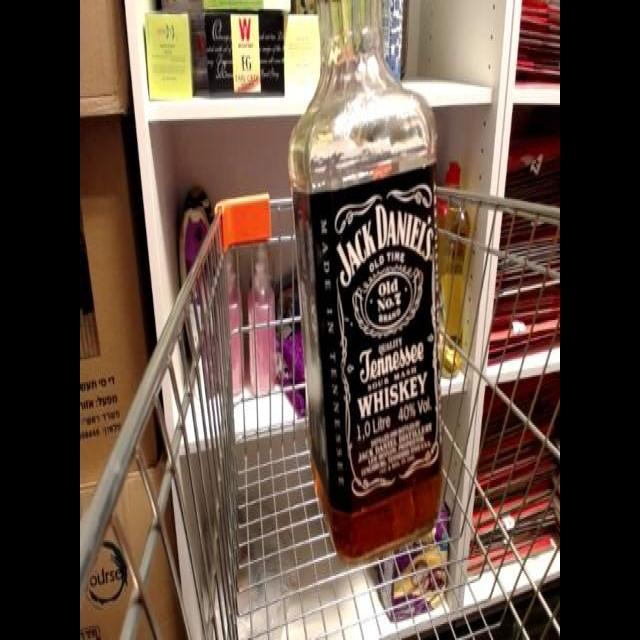Jack Daniels: (283, 4, 451, 572)
